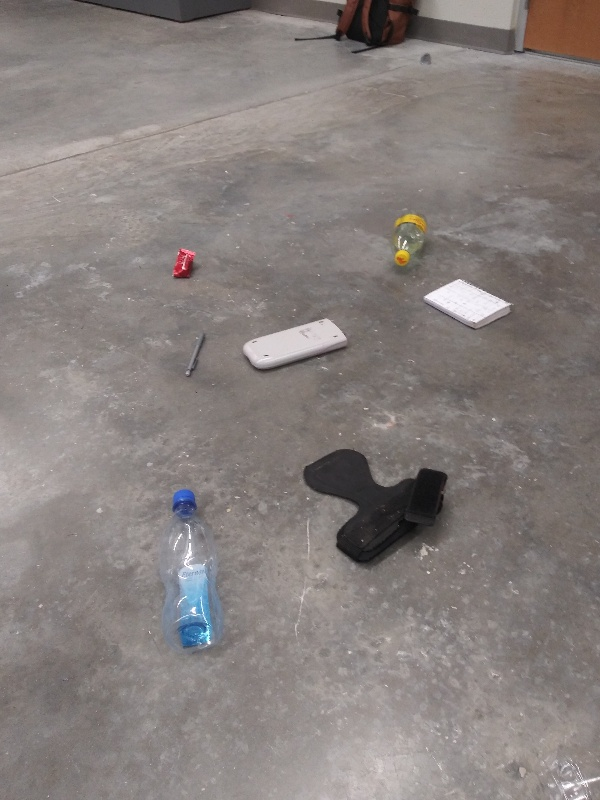bottle: (153, 487, 224, 655), (533, 748, 599, 800), (389, 204, 432, 271)
